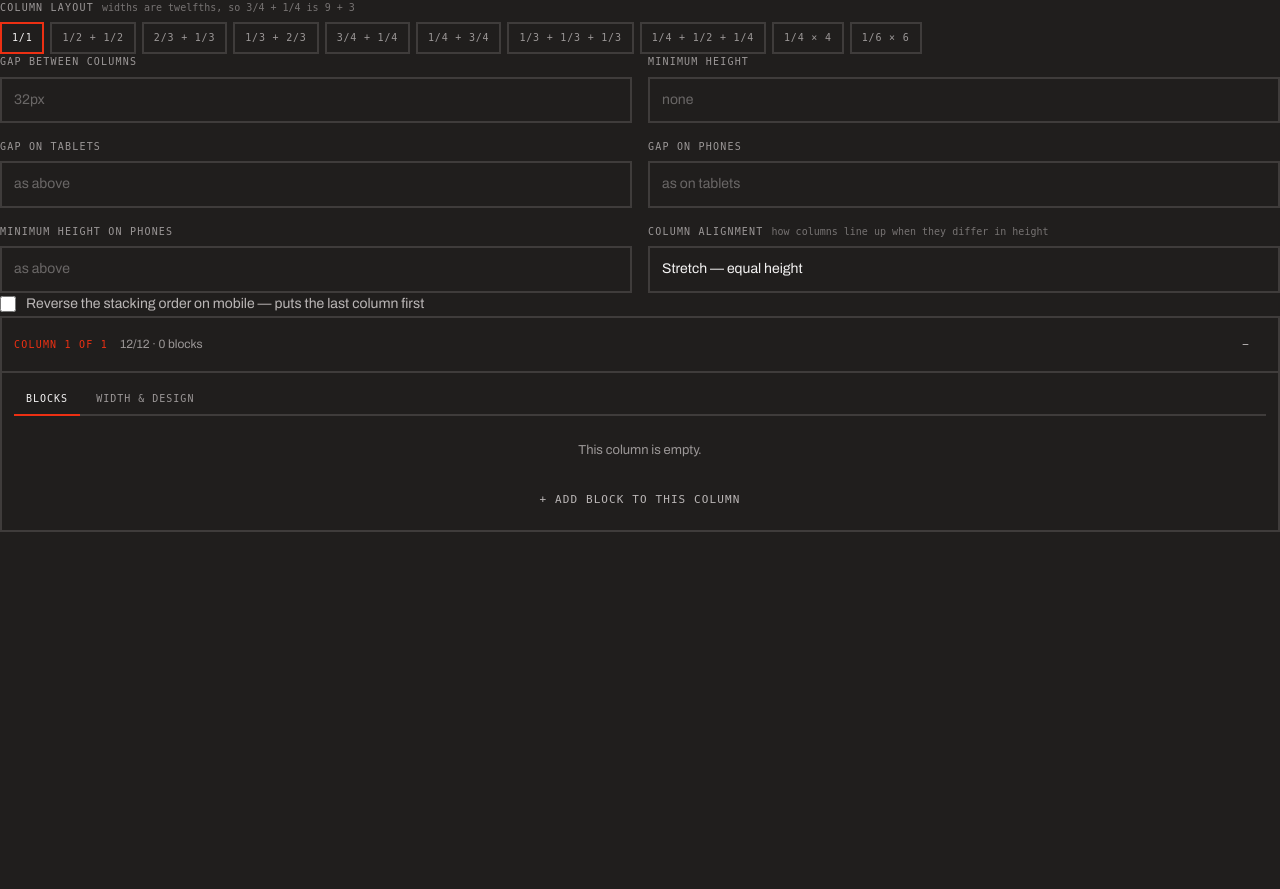
it: the block picker inside a column › offers a row while there is room to nest one
Step 1. Click the button "+ Add block to this column" → (640, 500), box [14,481,1266,518]
(page scrolled)
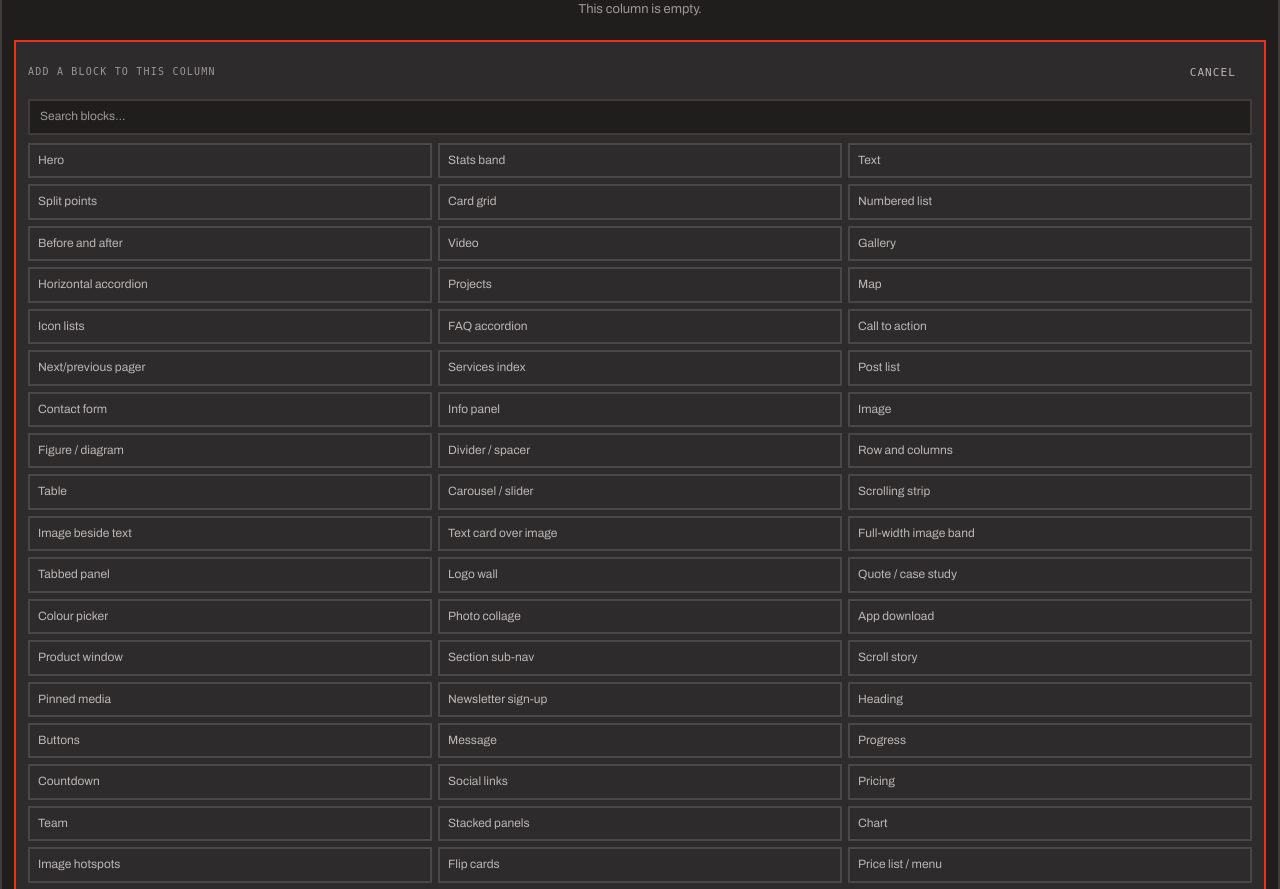
Expected: the button "Row and columns" is shown, [848,433,1252,468]
